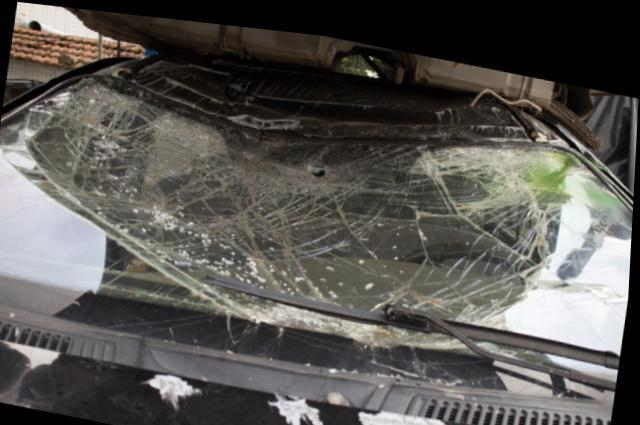glass shatter: (0, 71, 634, 389)
scratch: (147, 368, 474, 425)
